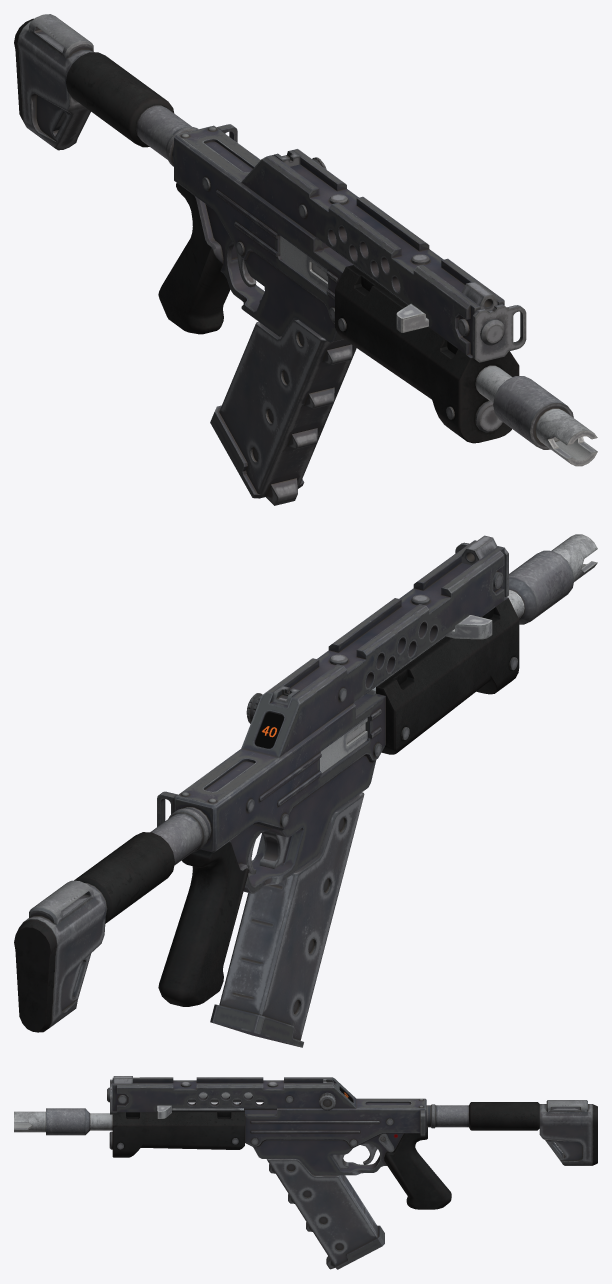
3 renders of one model, top to bottom at view 1: azimuth 30°, elevation 25°; view 2: azimuth 150°, elevation 25°; view 3: azimuth 270°, elevation 25°, orthographic. The views are drawn at different scales.
Visible parts, largest first — view 1: base, mag, bolt; view 2: base, mag, bolt, magrelease, visor; view 3: base, mag, bolt.
Boxes of the visible parts, <box> form: base: <box>14,14,597,466</box>; mag: <box>210,319,356,505</box>; bolt: <box>280,236,428,332</box>; base: <box>14,534,597,1032</box>; mag: <box>210,792,364,1047</box>; bolt: <box>320,615,492,772</box>; magrelease: <box>259,831,289,869</box>; visor: <box>255,712,283,748</box>; base: <box>14,1076,597,1209</box>; mag: <box>266,1159,384,1269</box>; bolt: <box>157,1102,243,1118</box>.
Bounding box in the file's own units: 9.59 × 35.85 × 100.
2 materials, 2 textured.
